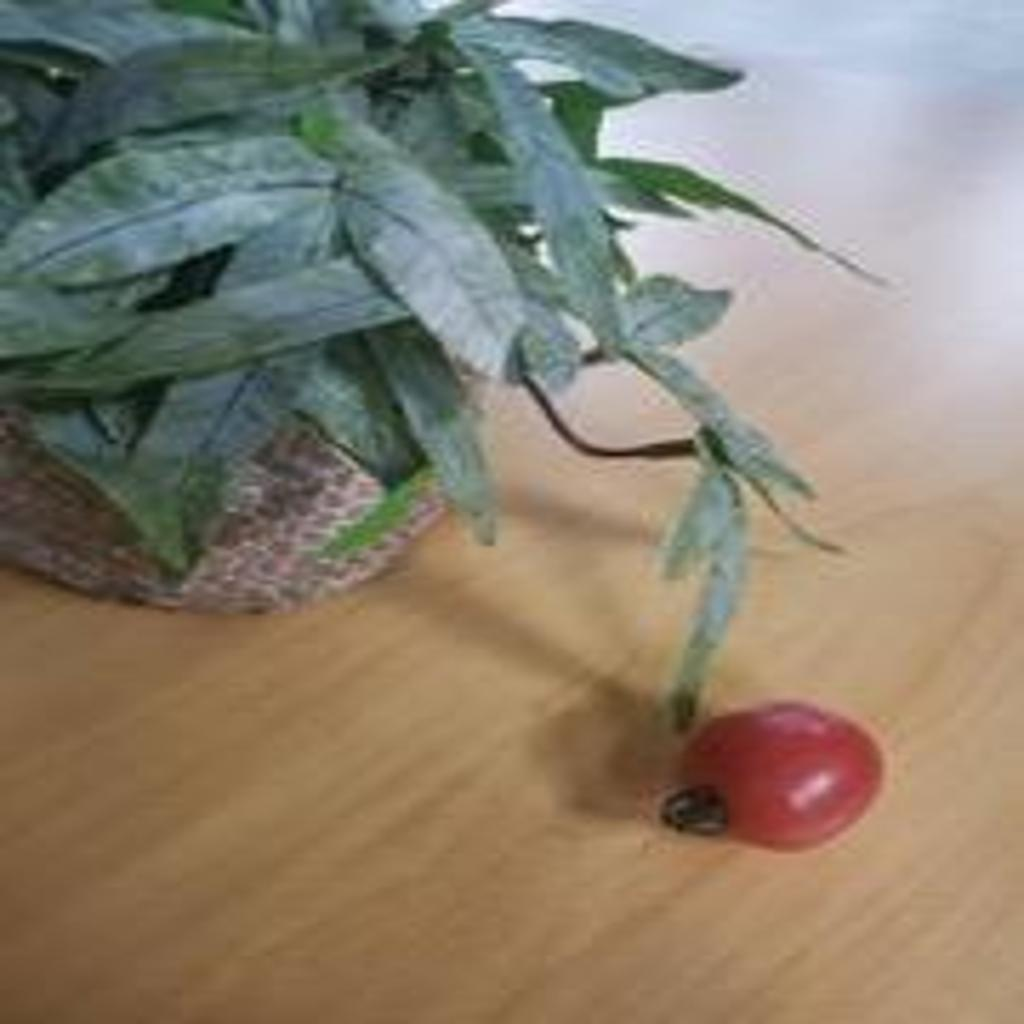tomato: (677, 697, 887, 849)
